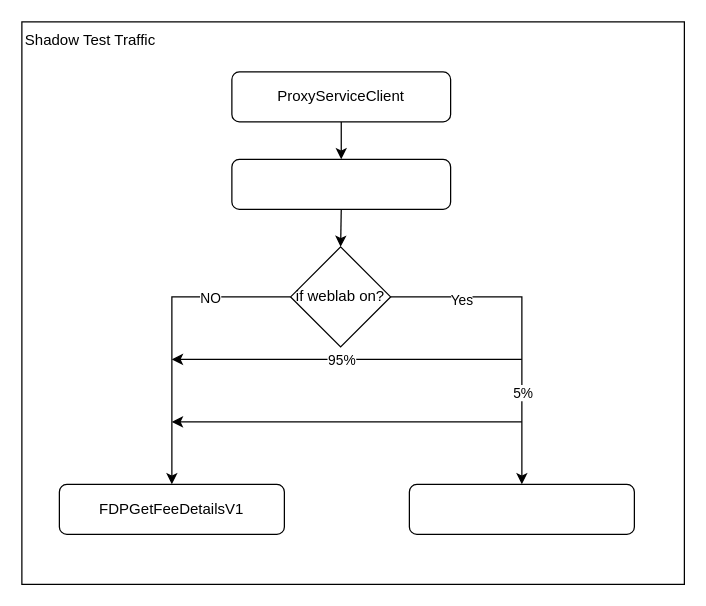
The diagram is 706 pixels wide and 606 high, and some of its shapes have lost their labels. The centre of each missing label's shape, as x and y in pixels:
"FDPGetFeeDetailsV2" goes at pixel 521 508.
"FeeServiceProxyService" goes at pixel 341 183.
